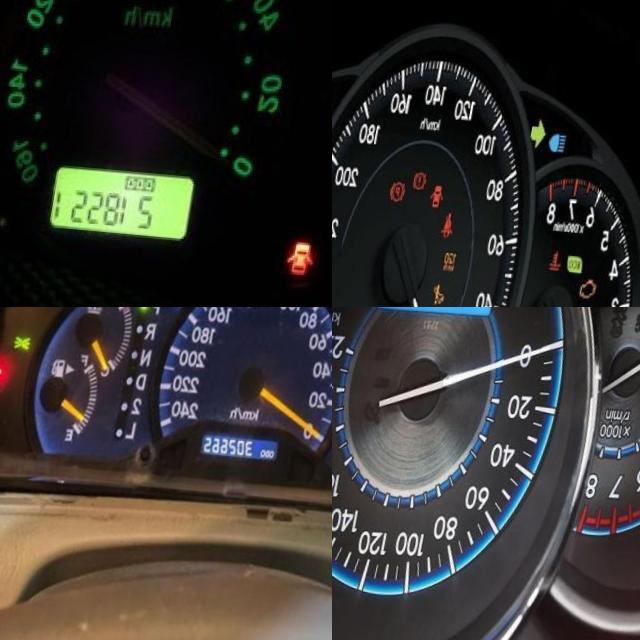High Engine Coolant Temperature: (562, 243, 575, 262)
Seat Belt: (452, 206, 467, 232)
